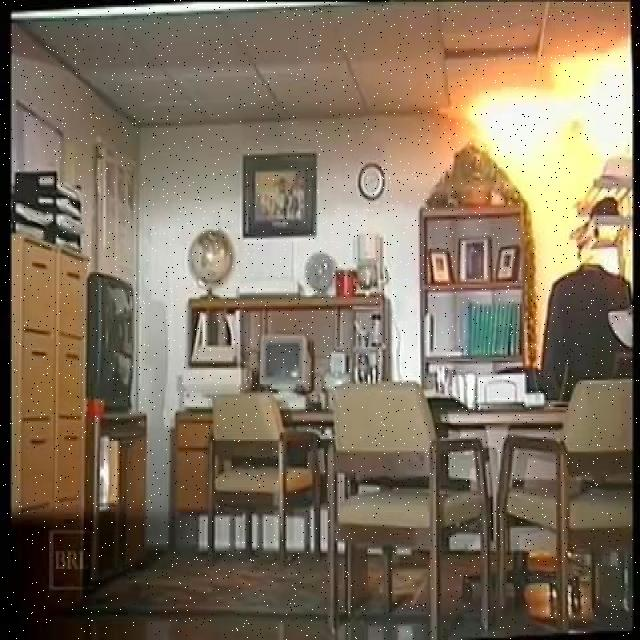fire: (465, 49, 640, 162)
